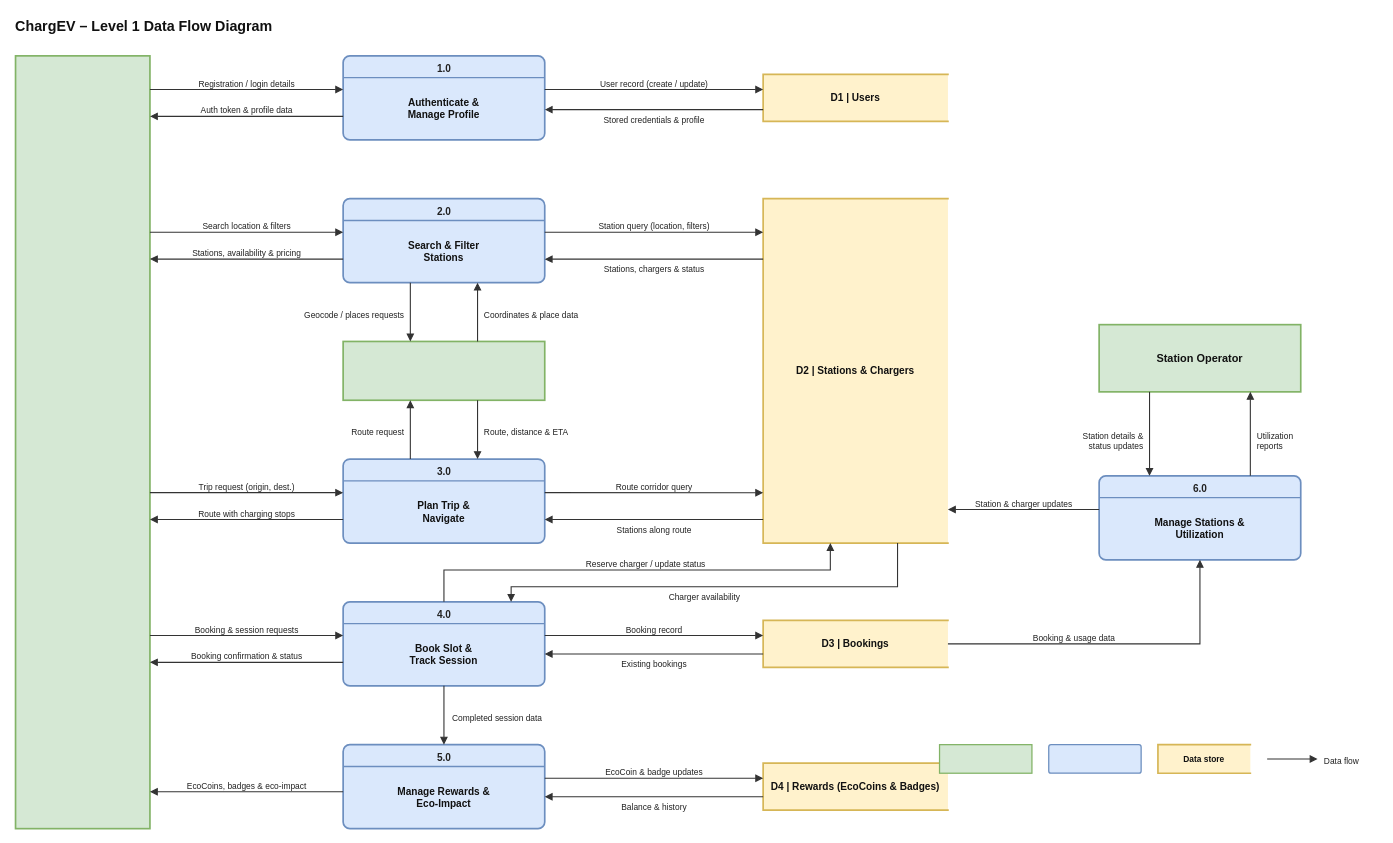
The diagram is 1393 pixels wide and 843 high, and some of its shapes have lost their labels. Here are the shapes that lost their labels. From the top down, the centre of each, then its label:
(443,370): Google Maps Platform (Maps · Places · Directions)
(82,442): EV Driver
(985,758): External entity
(1094,758): Process
